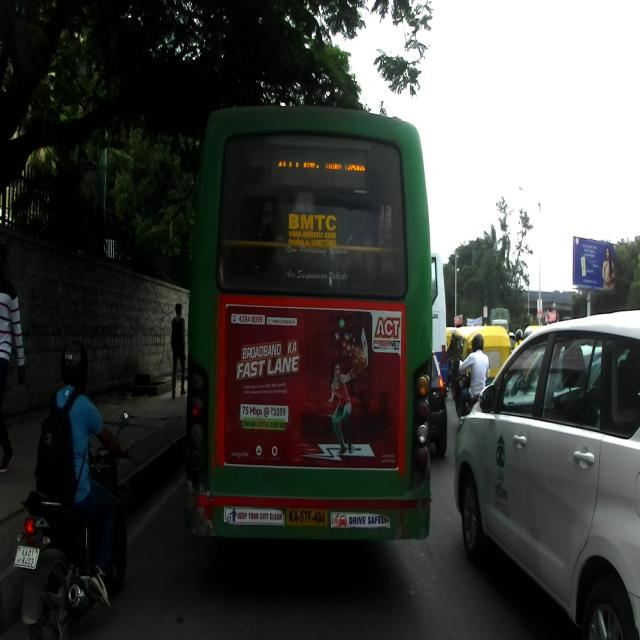autorickshaw: (452, 327, 511, 418)
bus: (181, 103, 433, 551)
car: (453, 308, 639, 639)
motorcycle: (13, 408, 131, 638)
